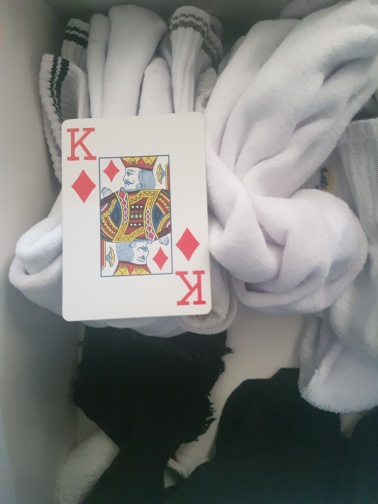king: (59, 114, 211, 322)
